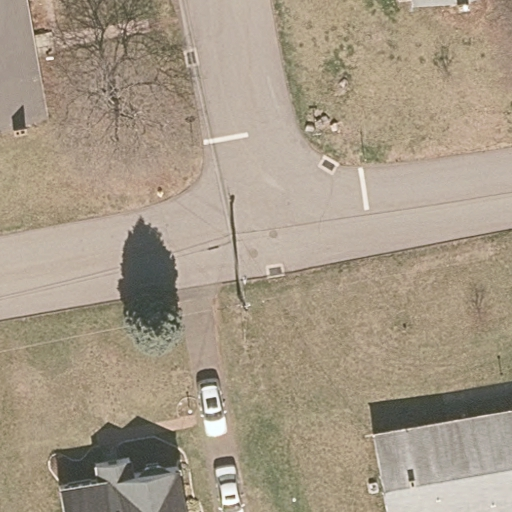DT: (235, 275, 252, 311)
